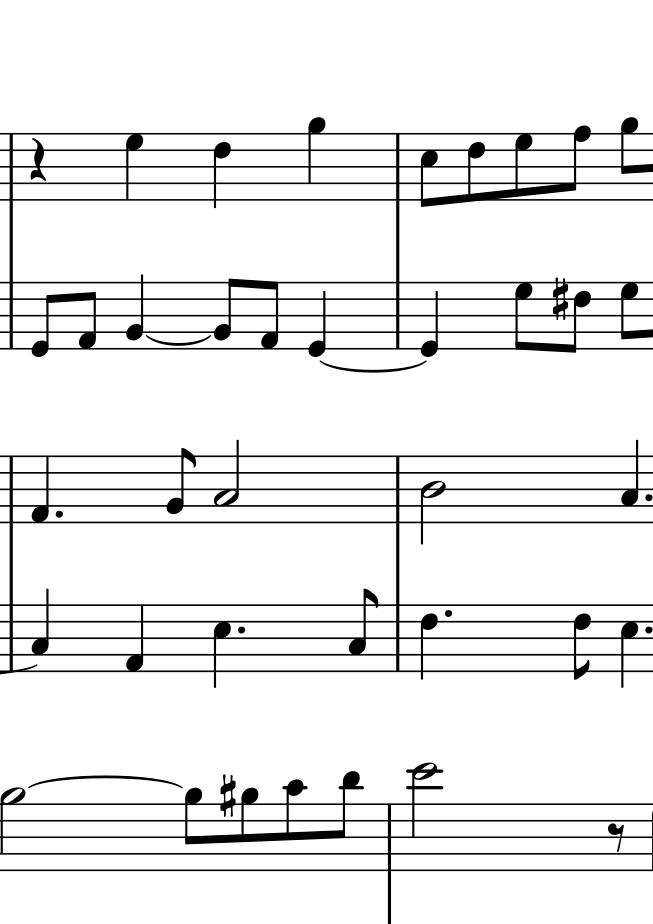2_12: (407, 761, 440, 872)
2_3: (211, 440, 242, 522)
2_4: (419, 454, 447, 542)
4_0: (305, 280, 329, 360), (419, 280, 442, 360)
4_1: (123, 603, 146, 674), (28, 454, 50, 524)
4_2: (123, 273, 146, 351)
4_3: (619, 439, 641, 523), (29, 587, 50, 672)
4_5: (211, 602, 232, 692), (619, 603, 640, 690)
4_6: (212, 131, 233, 210), (419, 603, 440, 681)
4_7: (123, 131, 146, 202)
4_9: (306, 114, 326, 203)
8_0: (28, 281, 57, 360)
8_1: (75, 280, 99, 352), (257, 278, 280, 352)
8_10: (285, 777, 306, 872)
8_11: (333, 769, 362, 872)
8_2: (164, 447, 196, 523), (212, 277, 240, 351)
8_3: (347, 588, 378, 676)
8_5: (419, 131, 439, 209)
8_6: (566, 280, 593, 356), (572, 602, 592, 684), (466, 131, 487, 205)
8_7: (618, 280, 640, 351), (513, 279, 534, 353), (513, 131, 534, 202)
8_8: (562, 124, 592, 202)
8_9: (619, 116, 640, 202), (240, 787, 261, 872), (183, 787, 204, 871)
Rests4: (27, 136, 49, 183)
Rests8: (606, 821, 628, 853)
Sharp: (218, 771, 237, 820), (550, 276, 570, 322)
Single_barline: (1, 133, 19, 201), (389, 134, 407, 199), (381, 803, 398, 871), (389, 457, 406, 522), (389, 605, 406, 669), (390, 282, 406, 349), (3, 456, 18, 526), (3, 606, 19, 671), (4, 286, 18, 349)
Slur: (28, 774, 188, 789), (319, 361, 428, 372), (142, 335, 212, 346)
dot: (440, 605, 456, 621), (52, 507, 65, 521), (234, 623, 248, 636), (643, 624, 653, 638), (643, 491, 653, 505)
